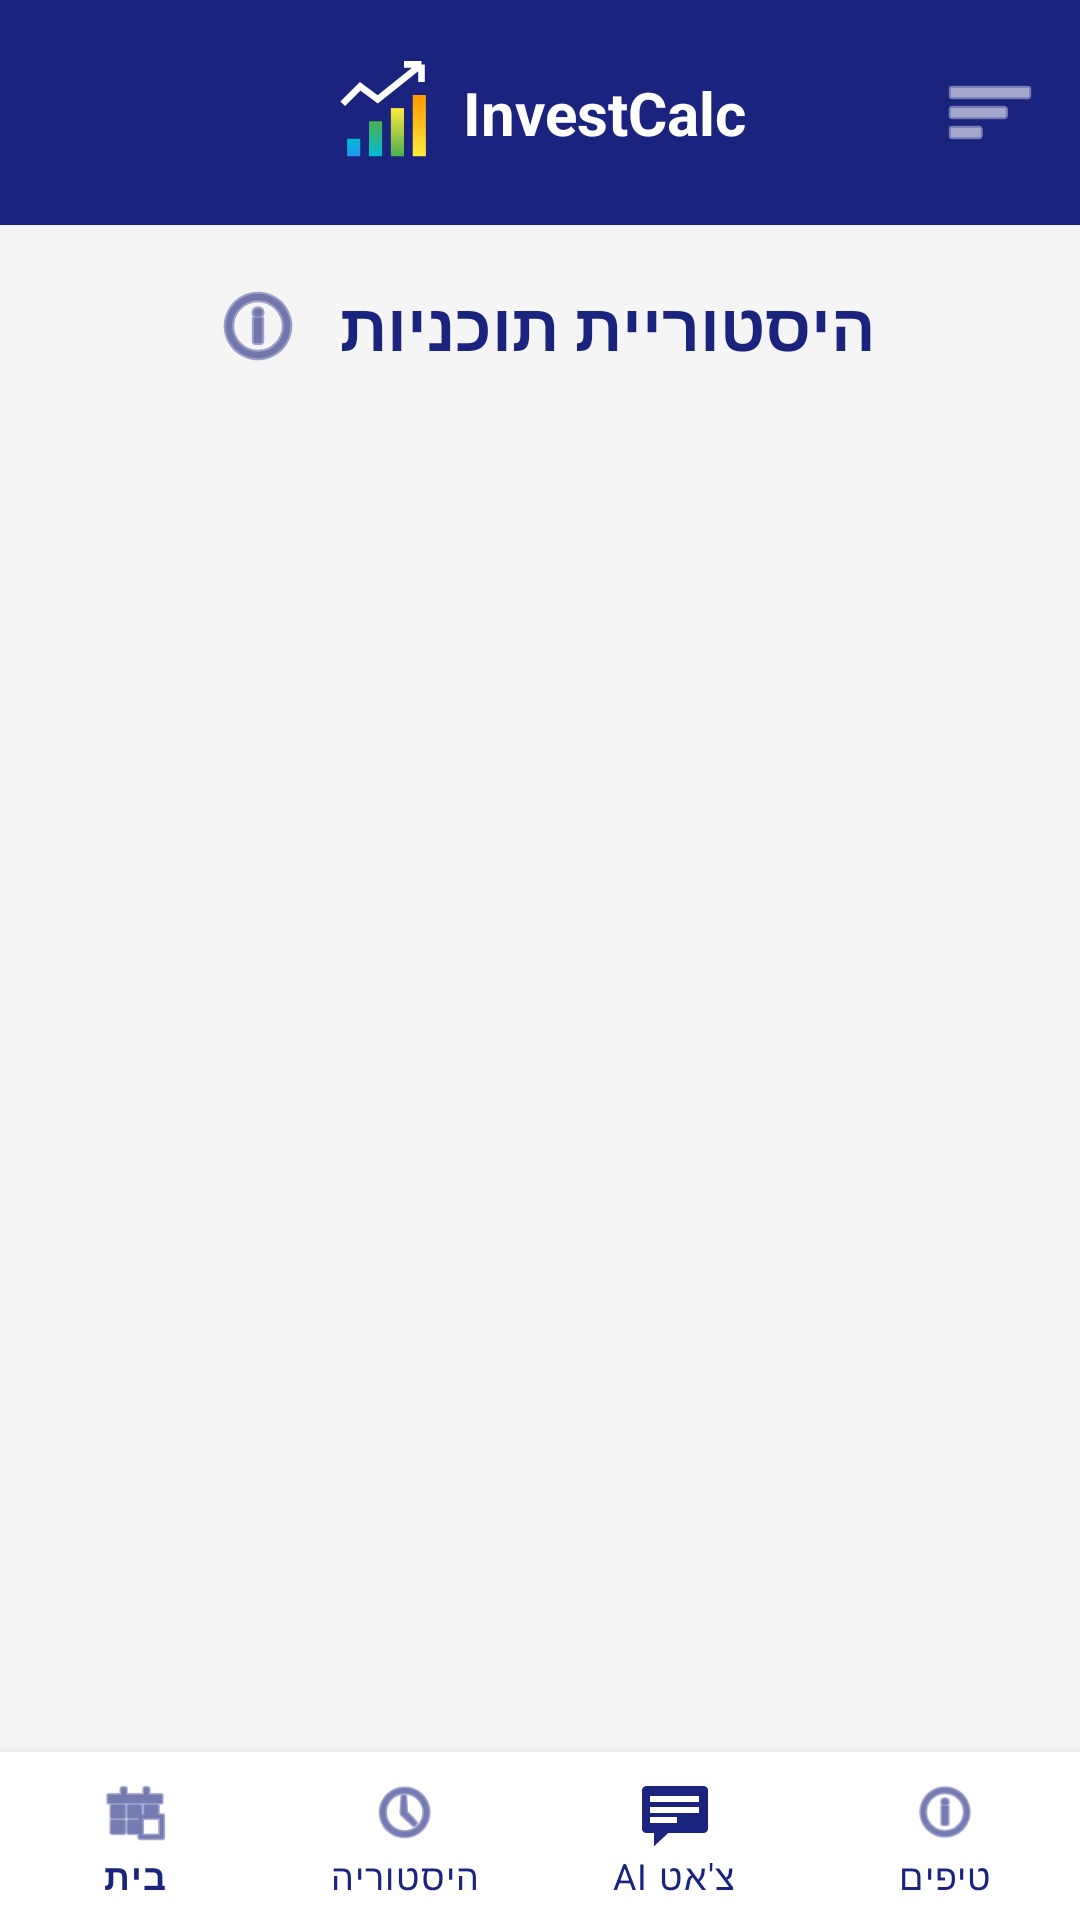

Named icons in this screenshot (1080×1920) and their centers, (x,y):
growth graph: (383,109)
info details: (258,326)
sort by size: (990,112)
